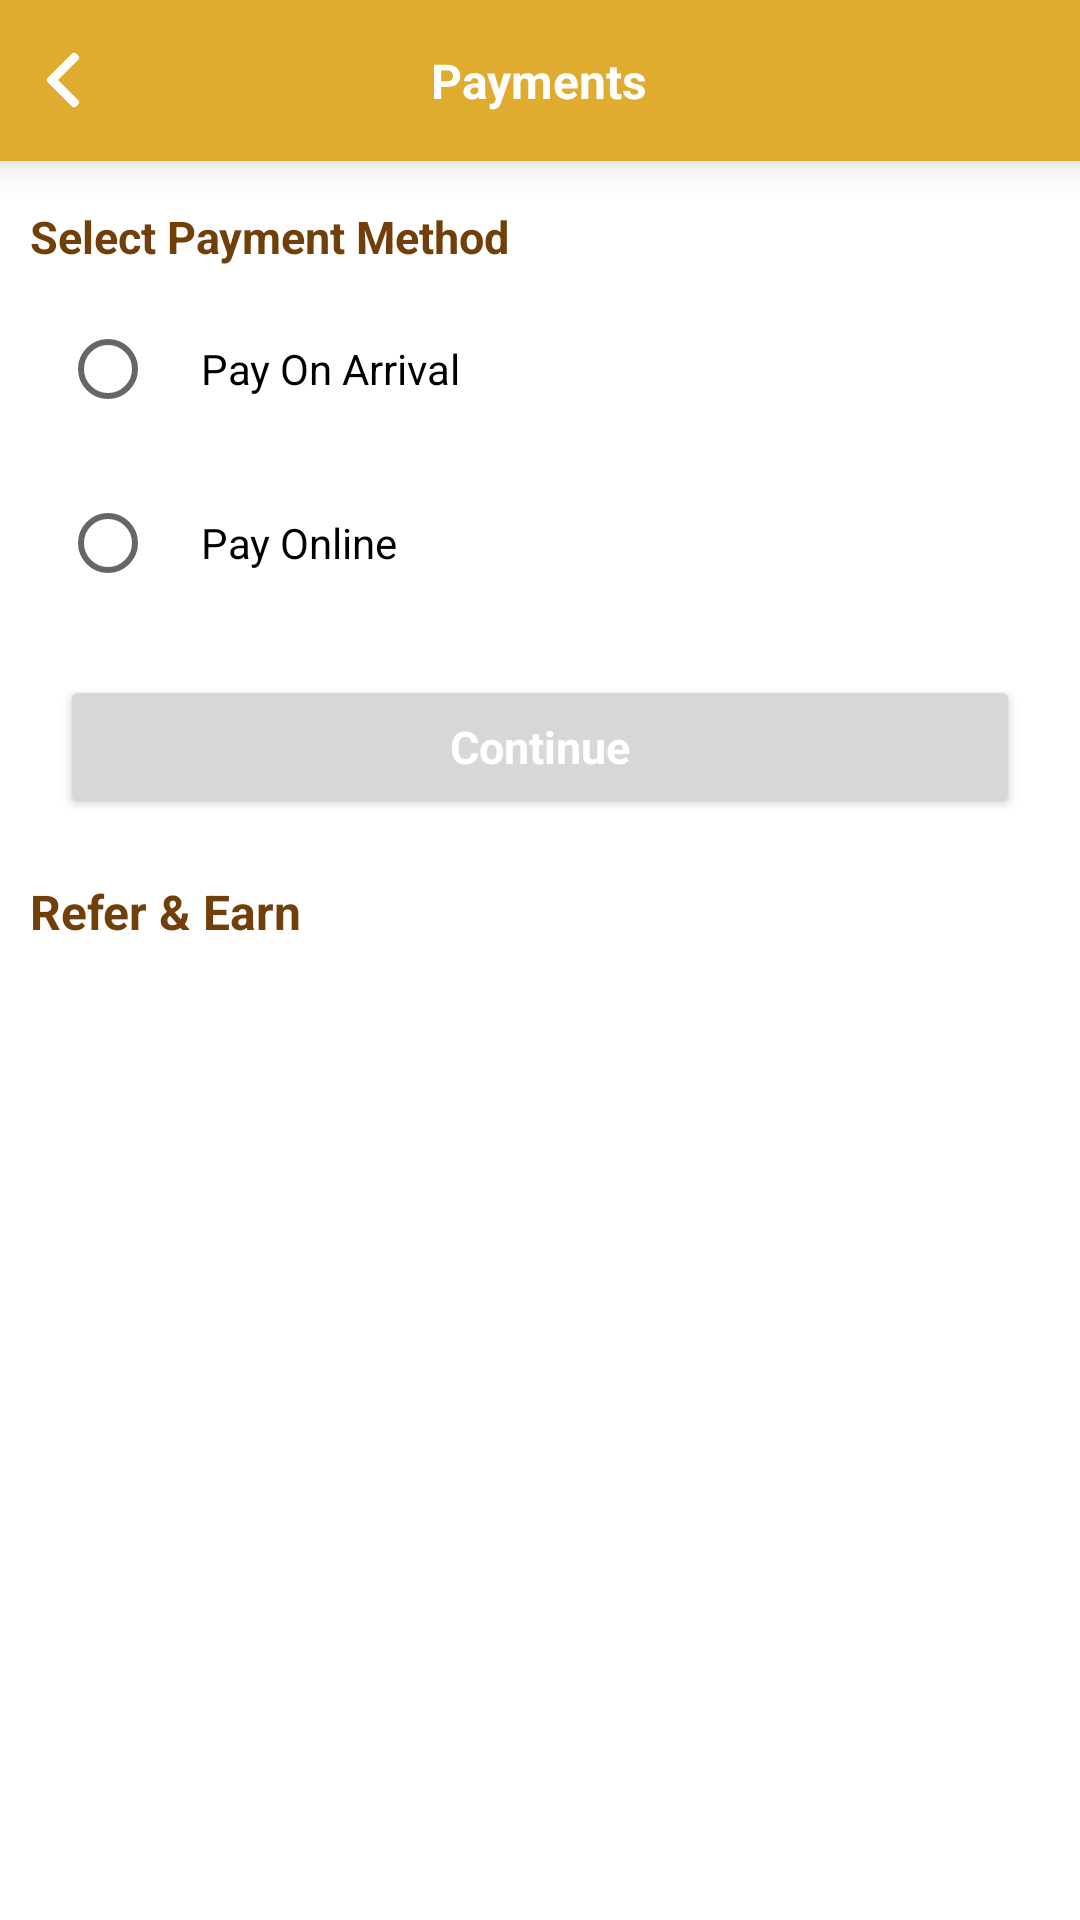

Locate icon controls on the screen. Image size 1080×1920, boxes as (x1, y1, x2, y2).
back: (47, 53, 79, 107)
